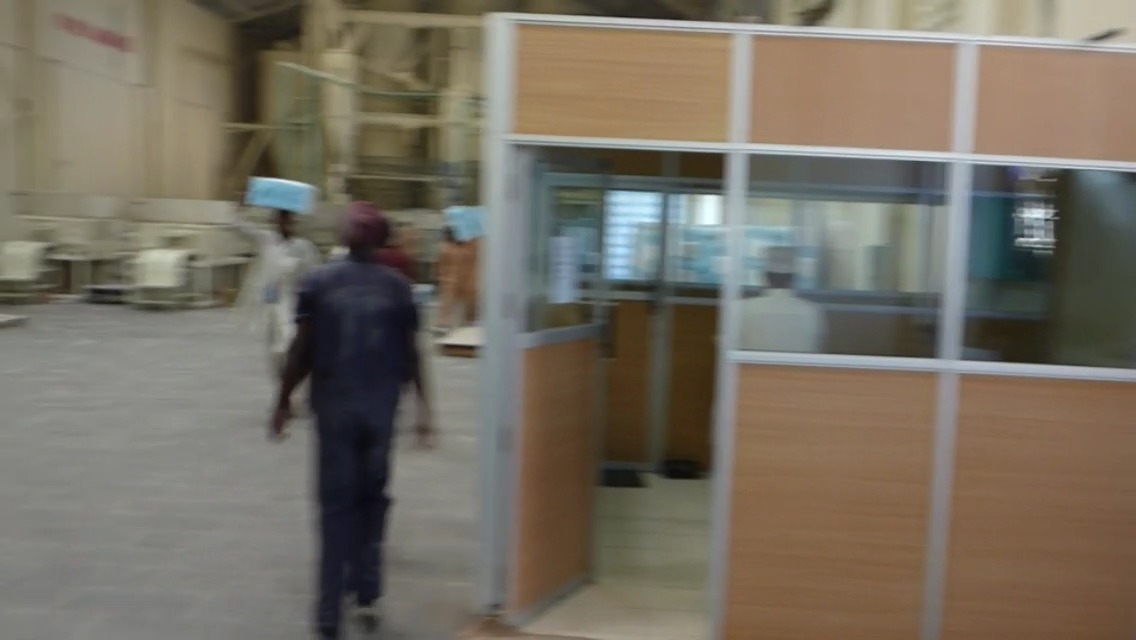wheat_flour_blue_label: (245, 176, 320, 212)
